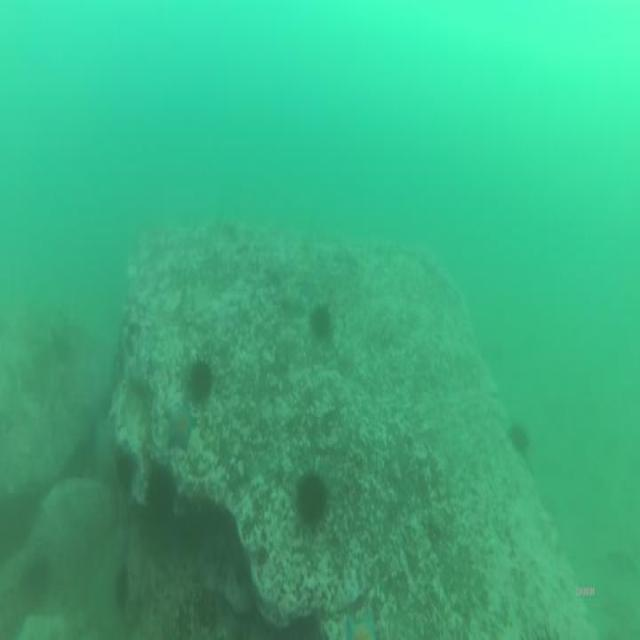echinus: (296, 473, 328, 523), (144, 468, 172, 515), (188, 361, 210, 402), (310, 305, 332, 333), (510, 422, 524, 452)
starfish: (162, 406, 194, 452), (345, 610, 375, 640)
